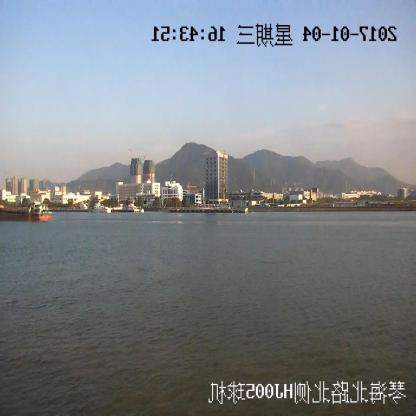Bulk Carrier: (1, 202, 50, 223)
